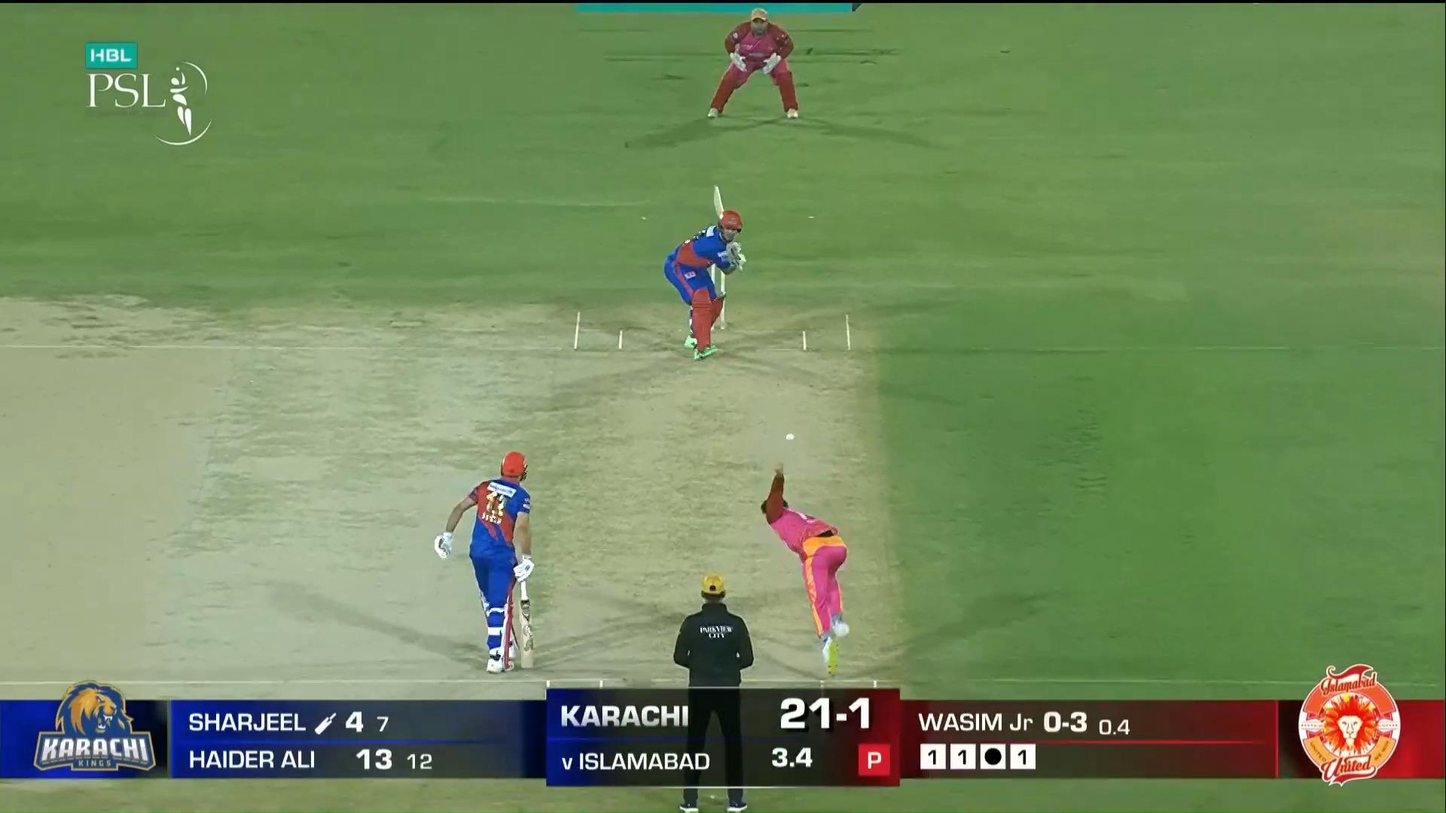batsman: (663, 184, 747, 362)
